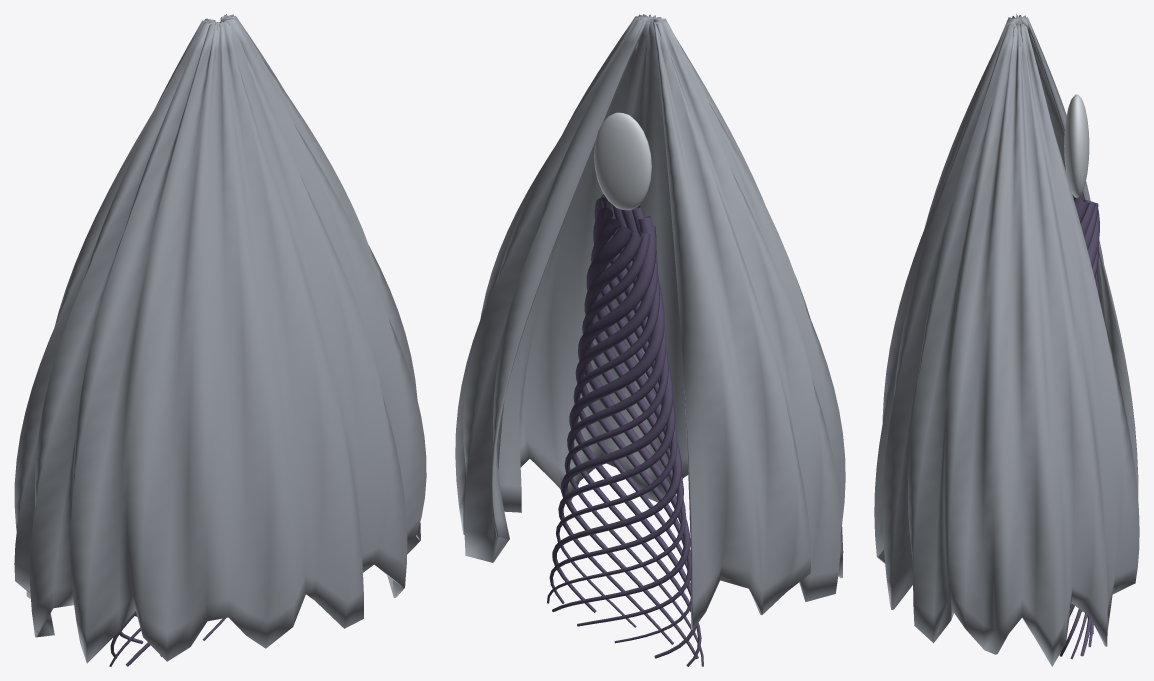
File: FoolForm.fbx
3 views of the same model, side by side, from view 1: azimuth 30°, elevation 25°; view 2: azimuth 150°, elevation 25°; view 3: azimuth 270°, elevation 25° (orthographic). The views are drawn at different scales.
Visible parts, largest first — view 1: Fool_Cloak, Fool_SpiritWorms; view 2: Fool_Cloak, Fool_SpiritWorms, Fool_BlankMask; view 3: Fool_Cloak, Fool_BlankMask, Fool_SpiritWorms.
Boxes of the visible parts, x1,y1,x2,y2 form: Fool_Cloak: (14, 14, 426, 663); Fool_SpiritWorms: (109, 611, 225, 666); Fool_Cloak: (455, 14, 845, 629); Fool_SpiritWorms: (547, 194, 703, 666); Fool_BlankMask: (594, 112, 651, 210); Fool_Cloak: (874, 14, 1139, 666); Fool_BlankMask: (1064, 94, 1089, 197); Fool_SpiritWorms: (1059, 197, 1099, 659).
Bounding box in the file's own units: 413 × 654 × 252.
